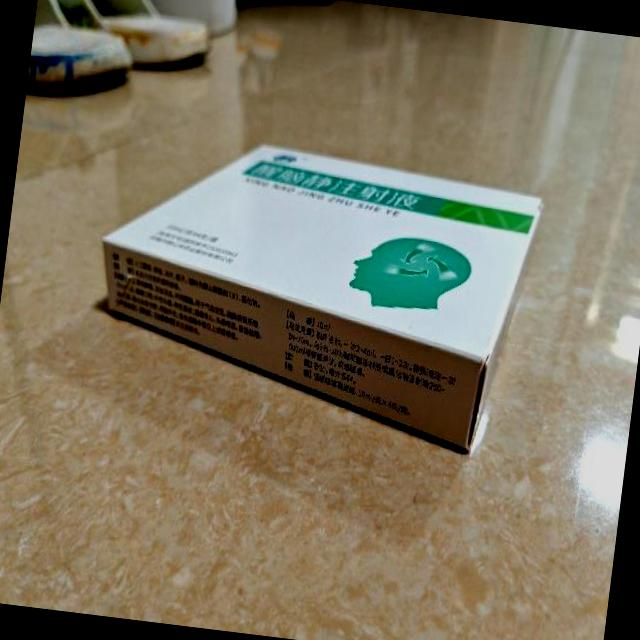box: (84, 126, 547, 457)
